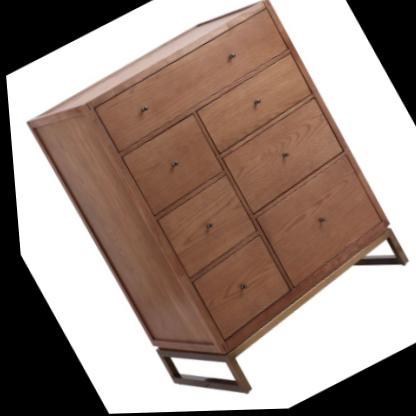Sideboard: (13, 0, 416, 416)
